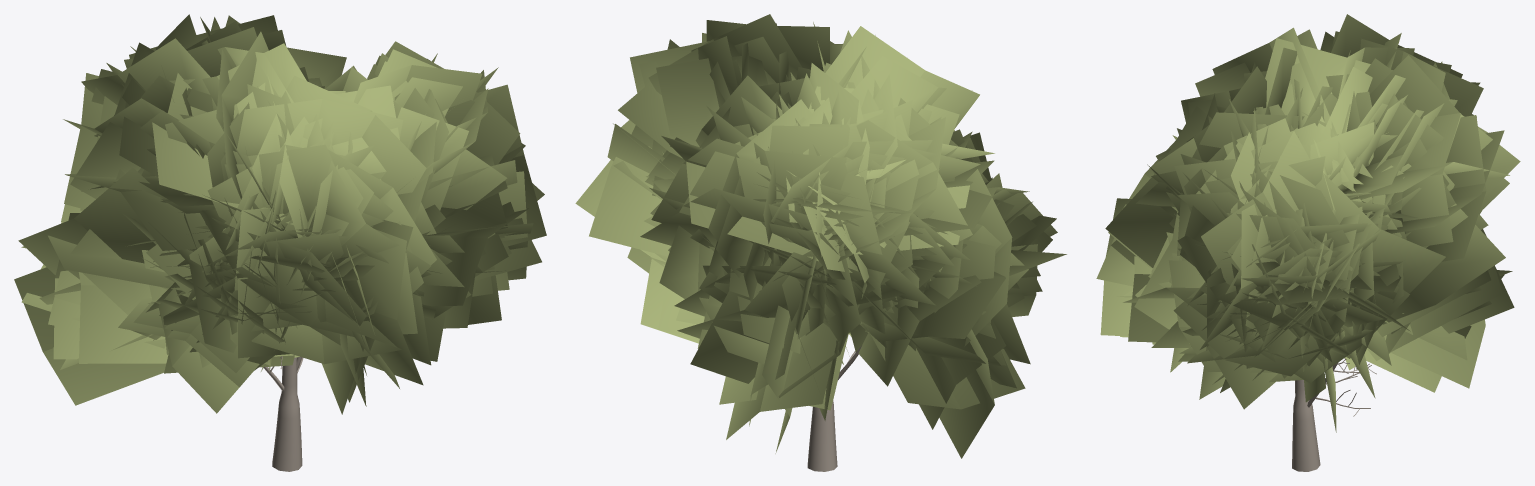
Rendered from StreetTree_C.fbx.
3 renders of one model, left to right at view 1: azimuth 30°, elevation 25°; view 2: azimuth 150°, elevation 25°; view 3: azimuth 270°, elevation 25°, orthographic. The views are drawn at different scales.
Visible parts, largest first — view 1: StreetTree_C; view 2: StreetTree_C; view 3: StreetTree_C.
Boxes of the visible parts, bbox=[...] form: StreetTree_C: bbox=[14, 14, 546, 471]; StreetTree_C: bbox=[575, 14, 1066, 471]; StreetTree_C: bbox=[1096, 14, 1520, 471].
Bounding box in the file's own units: 7.48 × 6.92 × 6.28.
